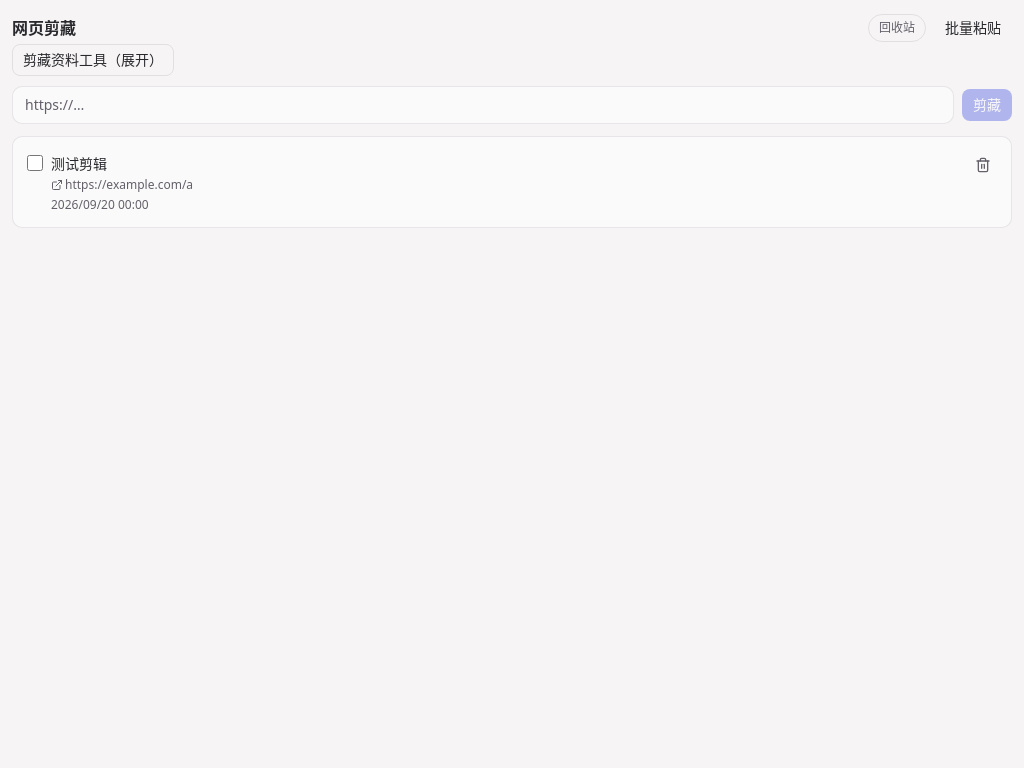
Scenario: N122 剪藏版本锁定 › 未锁定时刷新 → applied 提示（原始版本保留语义）
Click the button "测试剪辑".
click(79, 164)  # box [51,154,107,174]
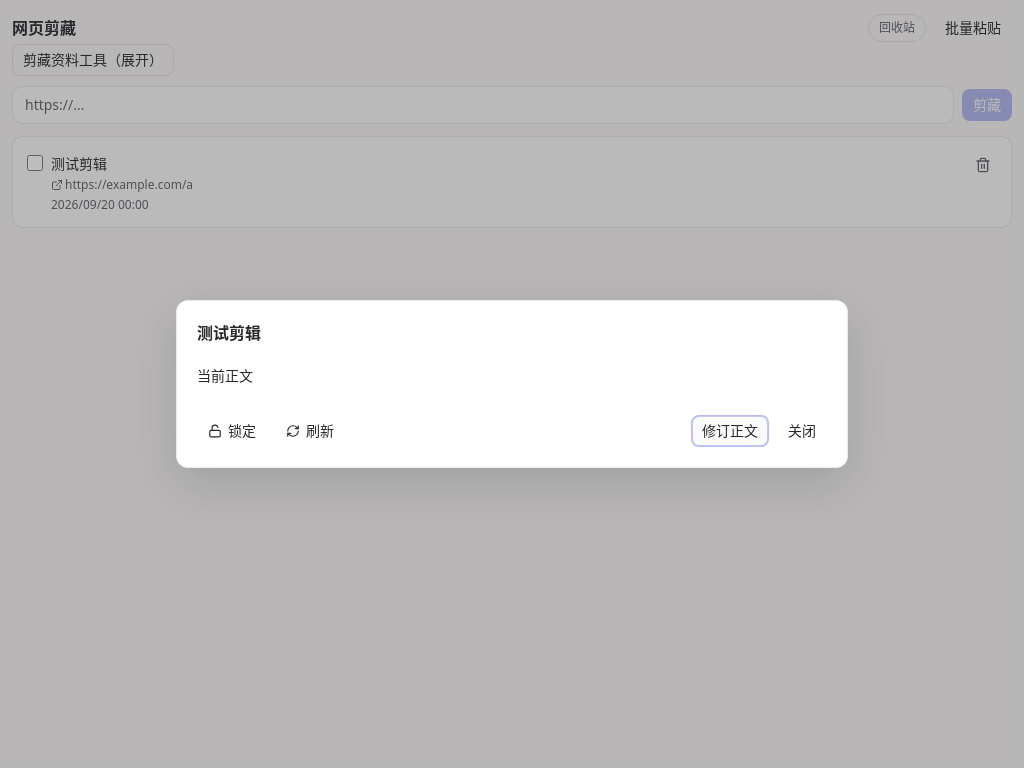
Expected: the text "当前正文" is shown, [197,366,253,385]
Click the button "刷新".
click(310, 431)  # box [275,415,345,447]
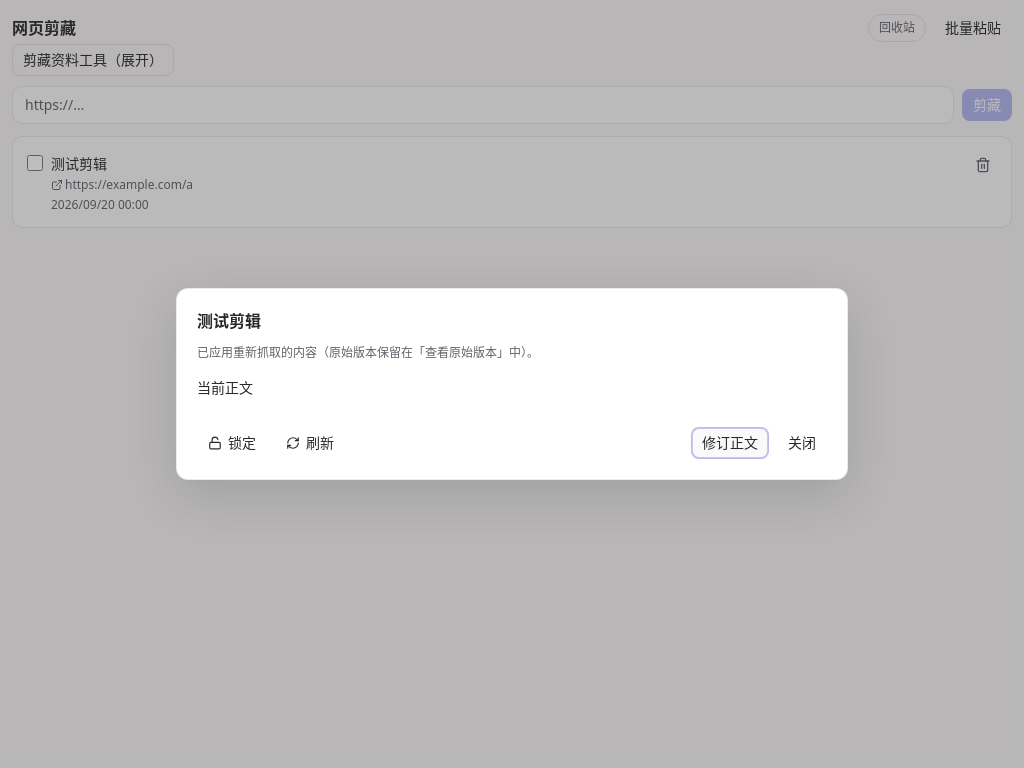
Expected: the text "已应用重新抓取的内容（原始版本保留在「查看原始版本」中）。" is shown, [197,345,539,361]
